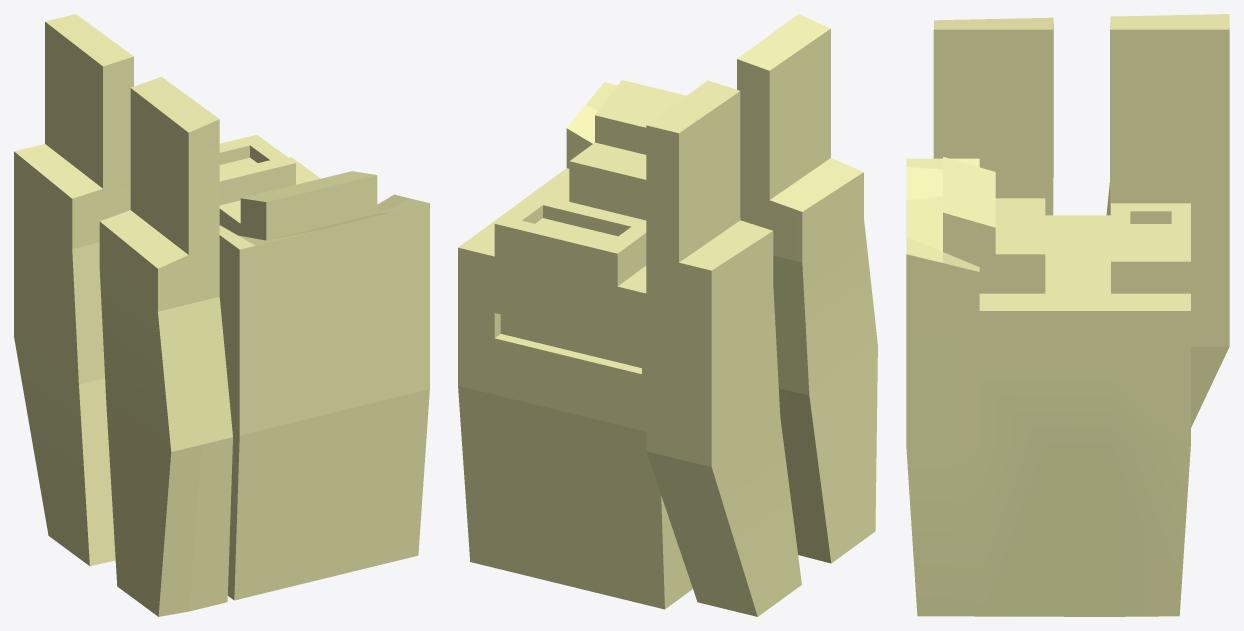
Rendered from MangaKa Props - F_S_ScifiBuilding_33.glb.
3 views of the same model, side by side, from view 1: azimuth 30°, elevation 25°; view 2: azimuth 150°, elevation 25°; view 3: azimuth 270°, elevation 25° (orthographic). The views are drawn at different scales.
Parts seen in each view (by area): view 1: F_S_ScifiBuilding_33001_blueScreen, F_S_ScifiBuilding_33_blueScreen; view 2: F_S_ScifiBuilding_33001_blueScreen, F_S_ScifiBuilding_33_blueScreen; view 3: F_S_ScifiBuilding_33_blueScreen, F_S_ScifiBuilding_33001_blueScreen.
Part boxes in pixels (box(x1,y1,x2,y2)): F_S_ScifiBuilding_33001_blueScreen: box(14, 14, 377, 616); F_S_ScifiBuilding_33_blueScreen: box(219, 157, 429, 600); F_S_ScifiBuilding_33001_blueScreen: box(494, 14, 877, 616); F_S_ScifiBuilding_33_blueScreen: box(458, 82, 692, 609); F_S_ScifiBuilding_33_blueScreen: box(906, 158, 1190, 616); F_S_ScifiBuilding_33001_blueScreen: box(933, 14, 1229, 427).
Bounding box in the file's own units: 2.84 × 4.91 × 2.93.
